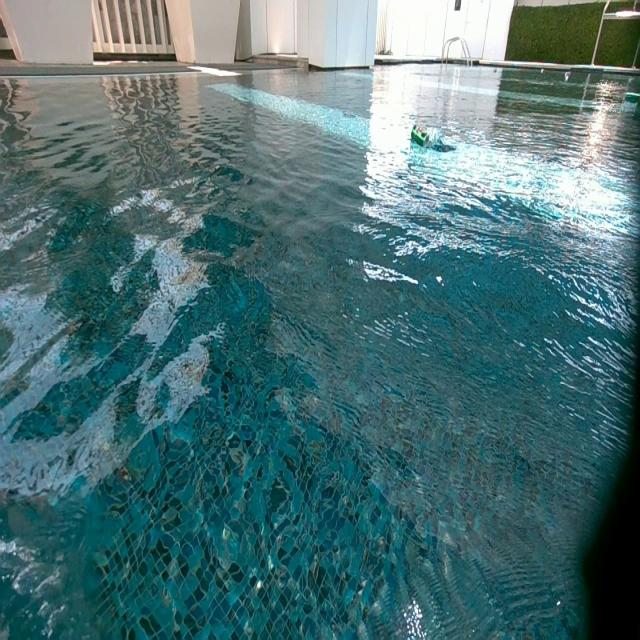Cans: (412, 125, 431, 148), (566, 72, 572, 80), (493, 68, 497, 72), (540, 69, 544, 73)
